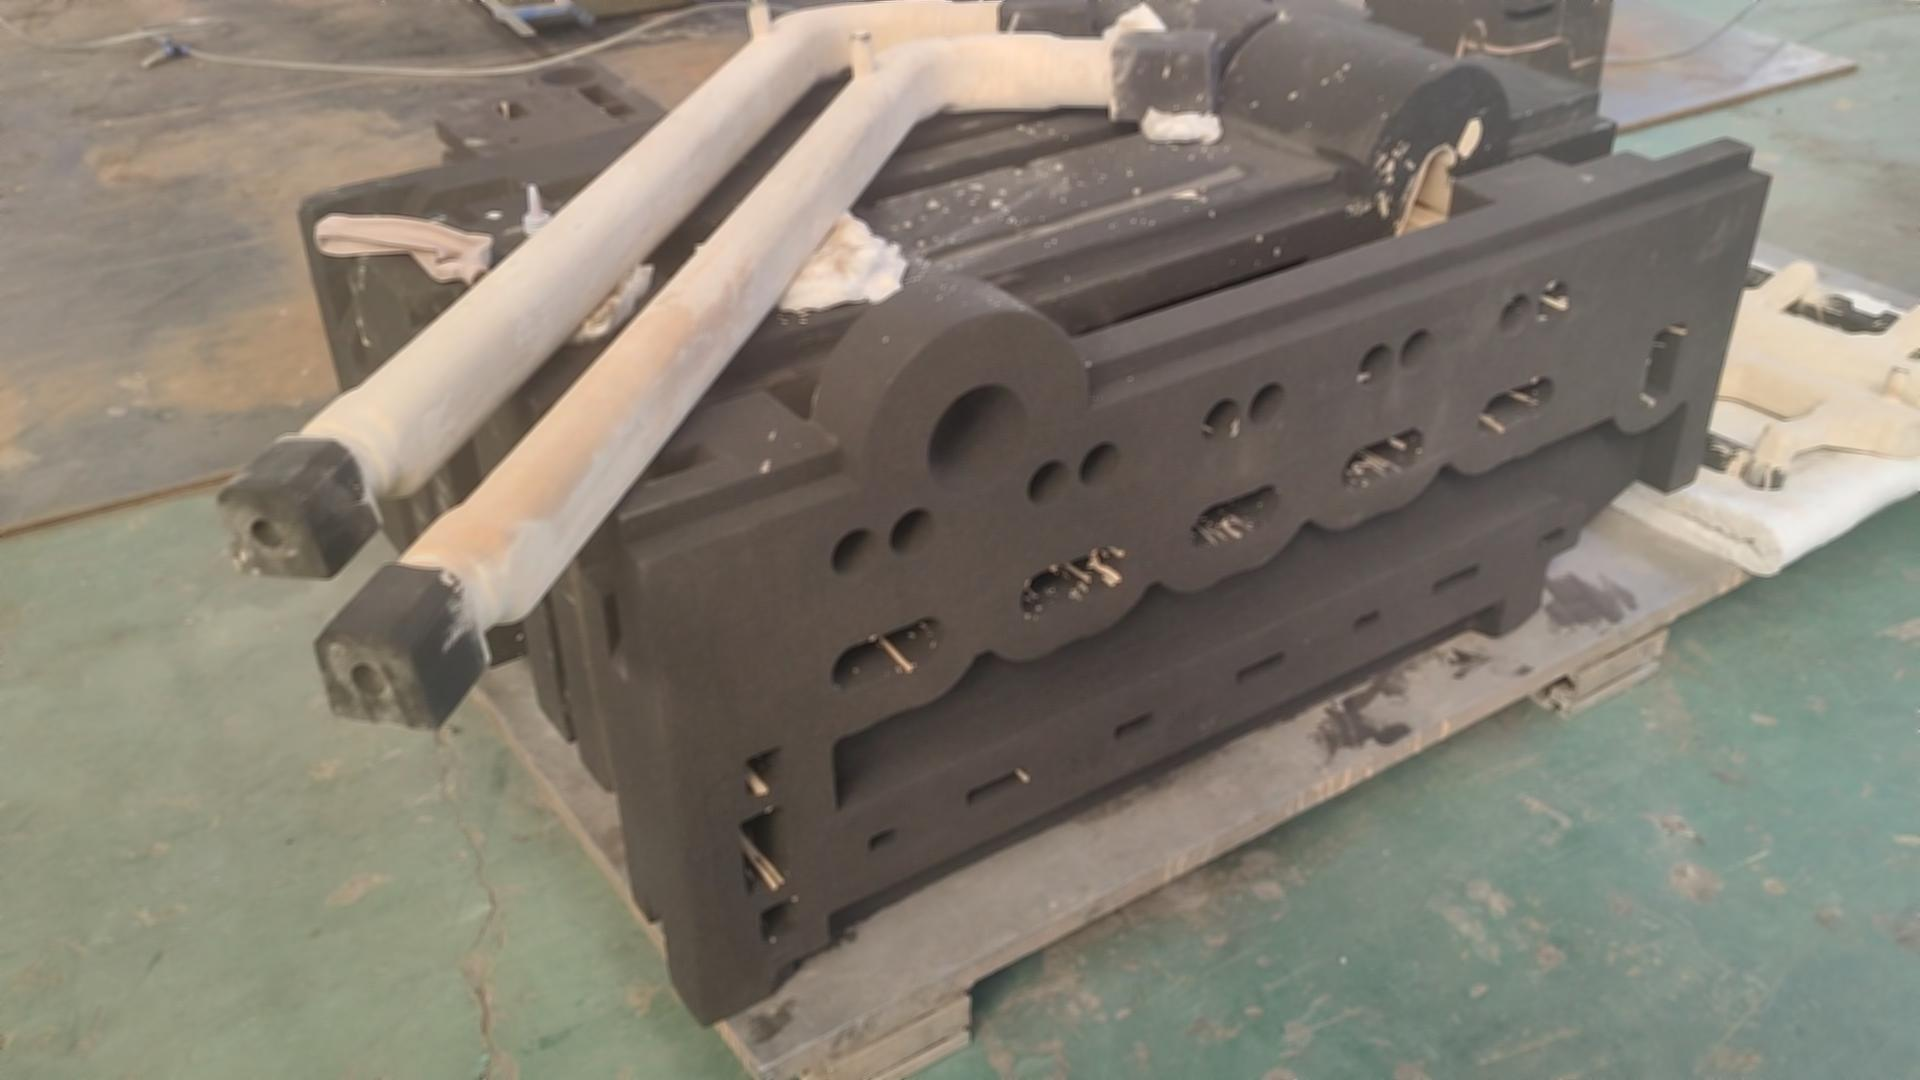pouring hole: (924, 382, 1035, 492), (537, 65, 597, 88)
